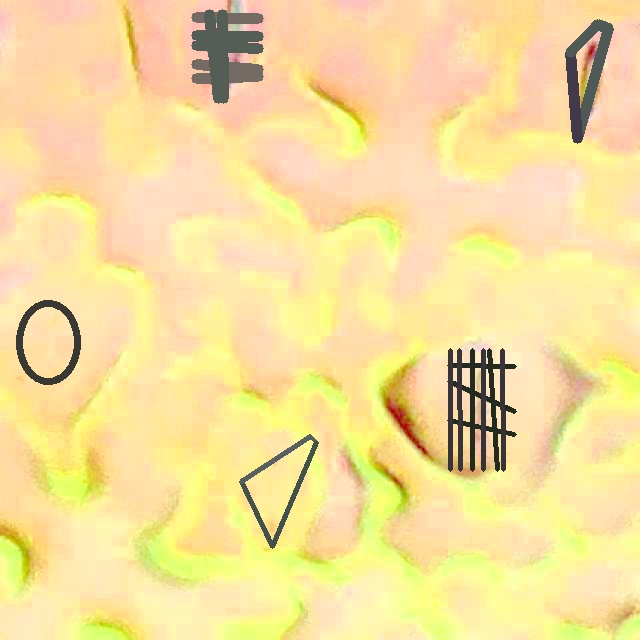close: (239, 434, 318, 548), (447, 348, 516, 471), (16, 300, 80, 385)
open: (191, 10, 262, 102), (566, 19, 613, 142)
